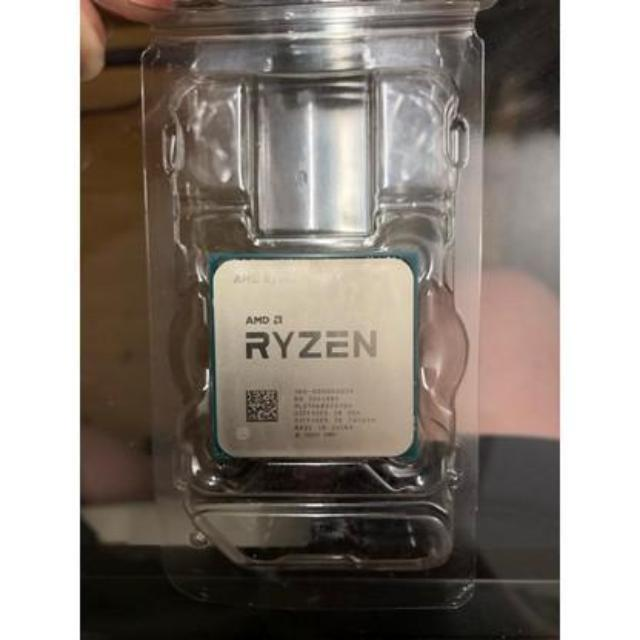CPU: (204, 254, 424, 468)
